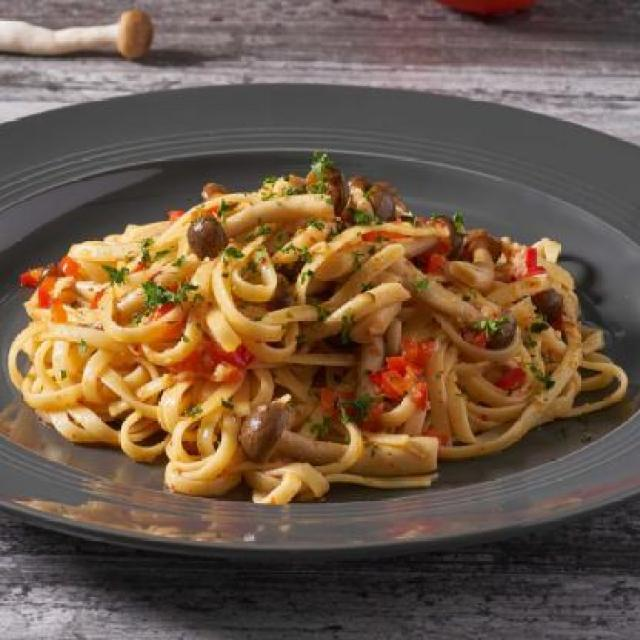Oil pasta: (27, 148, 640, 522)
